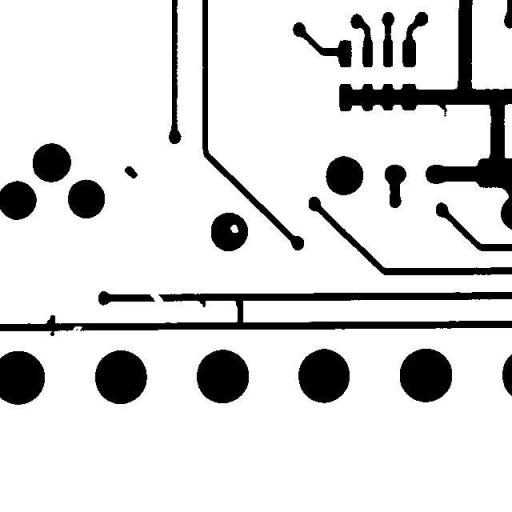copper: (117, 158, 145, 186)
mousebite: (64, 318, 90, 341)
open: (142, 284, 170, 311)
pin-hole: (222, 217, 246, 240)
short: (223, 287, 252, 336)
spur: (40, 307, 62, 343), (428, 94, 454, 124), (190, 289, 212, 314)
